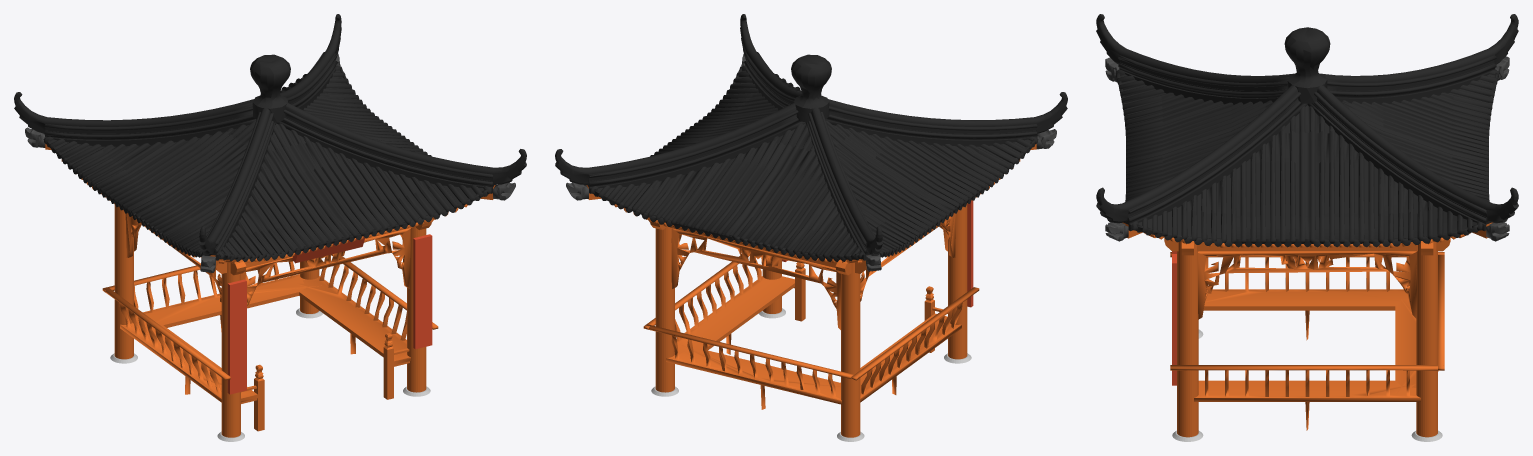
File: chinese-pavilion-mobile.glb
3 views of the same model, side by side, from view 1: azimuth 30°, elevation 25°; view 2: azimuth 150°, elevation 25°; view 3: azimuth 270°, elevation 25° (orthographic). The views are drawn at different scales.
Parts seen in each view (by area): view 1: Yueju_CC0_Chinese_Pavilion; view 2: Yueju_CC0_Chinese_Pavilion; view 3: Yueju_CC0_Chinese_Pavilion.
Part boxes in pixels (x1=…): Yueju_CC0_Chinese_Pavilion: x1=14, y1=14, x2=526, y2=441; Yueju_CC0_Chinese_Pavilion: x1=555, y1=14, x2=1067, y2=441; Yueju_CC0_Chinese_Pavilion: x1=1096, y1=14, x2=1518, y2=441.
Size of the model in its own units: 13.7 by 12.58 by 13.7.
